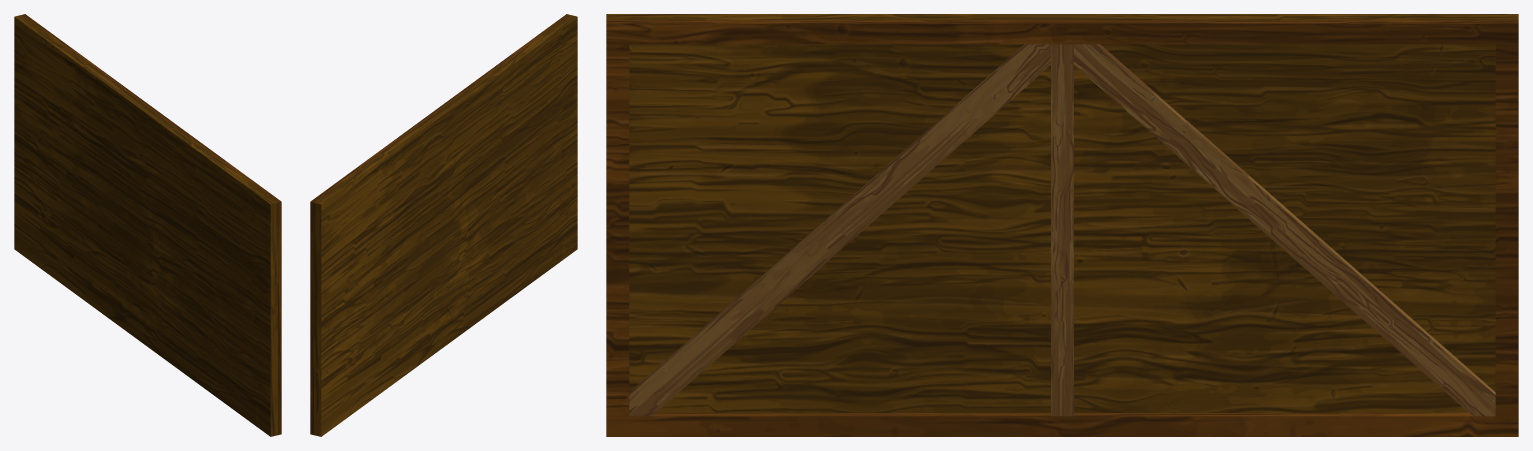
The model's file is C_CrateSides_L02.fbx.
3 views of the same model, side by side, from view 1: azimuth 30°, elevation 25°; view 2: azimuth 150°, elevation 25°; view 3: azimuth 270°, elevation 25° (orthographic). The views are drawn at different scales.
Visible parts, largest first — view 1: CrateBack_Long, CrateEdge_Long; view 2: CrateBack_Long, CrateEdge_Long; view 3: CrateBack_Long, CrateEdge_Long, CrateCross_02_Long.
Part boxes in pixels (x1,y1,x2,y2): CrateBack_Long: [14, 15, 277, 436]; CrateEdge_Long: [22, 14, 281, 434]; CrateBack_Long: [314, 15, 577, 436]; CrateEdge_Long: [310, 14, 569, 434]; CrateBack_Long: [606, 14, 1518, 412]; CrateEdge_Long: [606, 20, 1518, 436]; CrateCross_02_Long: [629, 44, 1495, 416].
Size of the model in its own units: 0.15 by 3 by 6.
